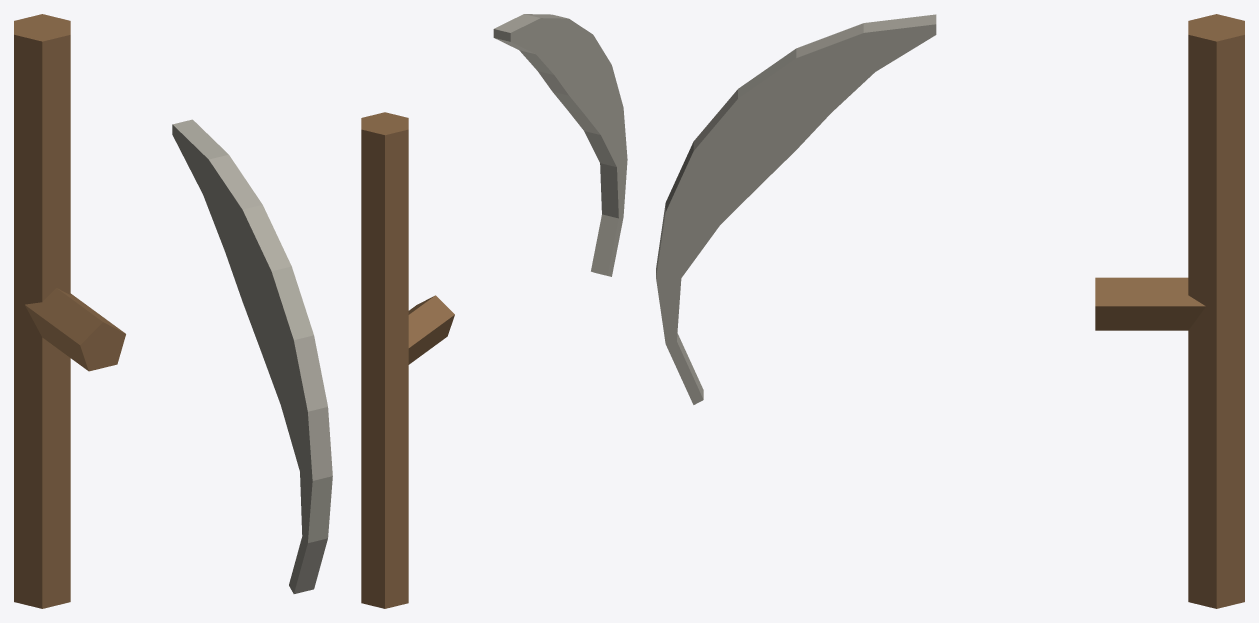
The model's file is villager-scythe.glb.
3 renders of one model, left to right at view 1: azimuth 30°, elevation 25°; view 2: azimuth 150°, elevation 25°; view 3: azimuth 270°, elevation 25°, orthographic. The views are drawn at different scales.
Visible parts, largest first — view 1: villager-scythe; view 2: villager-scythe; view 3: villager-scythe.
Part boxes in pixels (x1,y1,x2,y2): villager-scythe: (14, 14, 332, 608); villager-scythe: (361, 14, 627, 608); villager-scythe: (656, 14, 1244, 608).
Size of the model in its own units: 0.14 by 1.36 by 1.26.
Materials: 1 (1 with a texture image).
